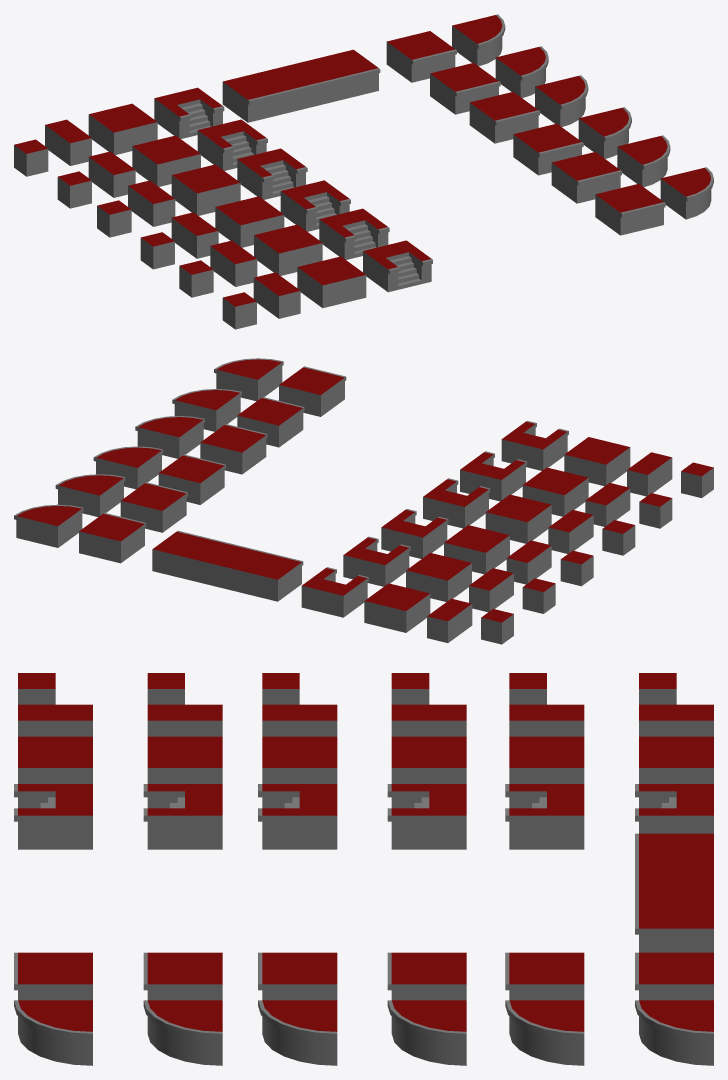
Rendered from StagePeicesSeperated.fbx.
3 views of the same model, one above another, from view 1: azimuth 30°, elevation 25°; view 2: azimuth 150°, elevation 25°; view 3: azimuth 270°, elevation 25° (orthographic). The views are drawn at different scales.
Visible parts, largest first — view 1: StageCenter6, StageEdge6, StageStairs6, StageEdge3, StageEdge5, StageEdge1, StageStairs5, StageCenter1, StageCenter3, StageStairs3, StageStairs1, StageCenter5 (+29 smaller); view 2: StageEdge1, StageCenter1, StageEdge4, StageEdge2, StageEdge6, StageCenter6, StageCurve1, StageCenter4, StageCenter2, StageStairs1, StageEdge3, StageStairs6 (+29 smaller); view 3: StageStairs2, StageStairs4, StageStairs3, StageStairs5, StageStairs6, StageCurve4, StageCurve2, StageCurve5, StageCurve3, StageCurve1, StageCurve6, StageEdge2 (+29 smaller).
Boxes of the visible parts, box(x1,y1,x2,y2) form: StageCenter6: box(297, 256, 366, 308); StageEdge6: box(595, 183, 665, 235); StageStairs6: box(363, 240, 432, 292); StageEdge3: box(469, 92, 539, 143); StageEdge5: box(551, 152, 621, 203); StageEdge1: box(386, 31, 456, 82); StageStairs5: box(319, 208, 389, 259); StageCenter1: box(88, 103, 157, 154); StageCenter3: box(171, 164, 240, 215); StageStairs3: box(237, 148, 307, 199); StageStairs1: box(154, 87, 224, 138); StageCenter5: box(254, 224, 322, 275); StageEdge1: box(79, 512, 146, 563); StageCenter1: box(364, 583, 430, 632); StageEdge4: box(200, 424, 267, 474); StageEdge2: box(120, 482, 187, 532); StageEdge6: box(279, 366, 346, 416); StageCenter6: box(564, 437, 630, 486); StageCurve1: box(14, 504, 83, 547); StageCenter4: box(485, 494, 551, 543); StageCenter2: box(406, 553, 471, 601); StageStairs1: box(301, 567, 368, 617); StageEdge3: box(158, 454, 225, 504); StageStairs6: box(501, 420, 568, 470); StageStairs2: box(505, 784, 584, 849); StageStairs4: box(258, 784, 337, 849); StageStairs3: box(387, 784, 466, 849); StageStairs5: box(143, 784, 222, 849); StageStairs6: box(14, 784, 92, 849); StageCurve4: box(258, 1000, 337, 1065); StageCurve2: box(505, 1000, 584, 1065); StageCurve5: box(143, 1000, 222, 1065); StageCurve3: box(387, 1000, 466, 1065); StageCurve1: box(635, 1000, 713, 1065); StageCurve6: box(14, 1000, 92, 1065); StageEdge2: box(505, 952, 584, 1000).
Bounding box in the file's own units: 114 × 93.36 × 5.
